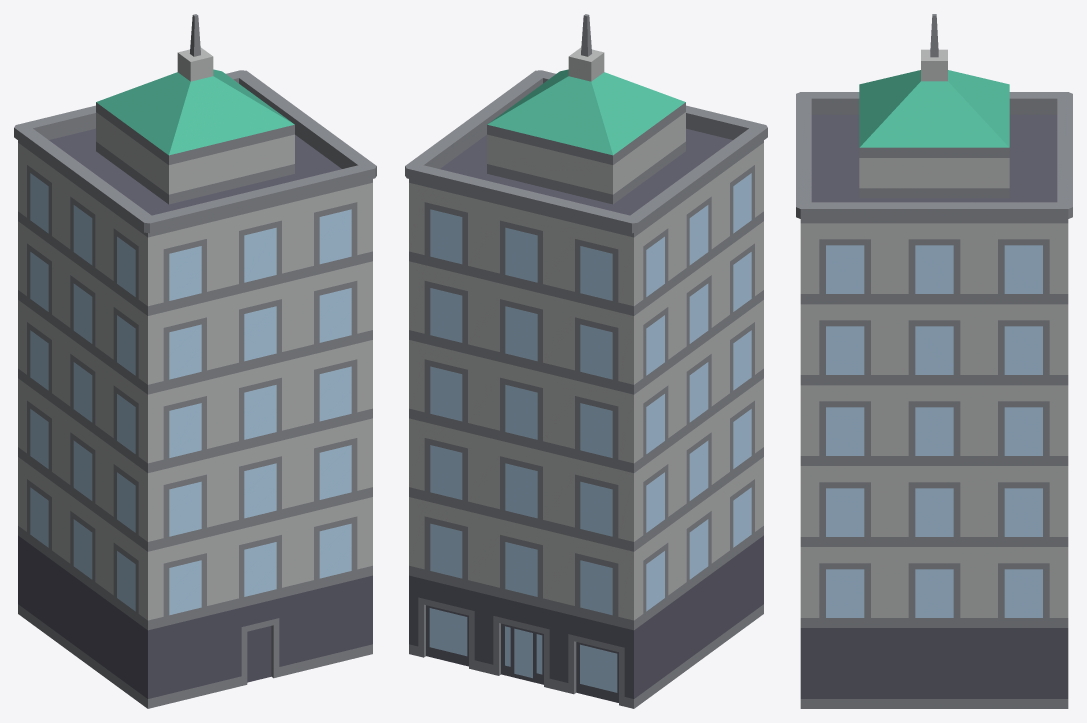
File: office.glb
The picture shows the model from 3 angles, left to right: view 1: azimuth 30°, elevation 25°; view 2: azimuth 150°, elevation 25°; view 3: azimuth 270°, elevation 25°; orthographic projection. The views are drawn at different scales.
Visible parts, largest first — view 1: skyscraperE; view 2: skyscraperE; view 3: skyscraperE.
Boxes of the visible parts, box(x1,y1,x2,y2) form: skyscraperE: box(14, 14, 376, 708); skyscraperE: box(405, 14, 767, 708); skyscraperE: box(796, 14, 1072, 708).
Bounding box in the file's own units: 1.24 × 3.15 × 1.24.
Materials: 1 (1 with a texture image).
